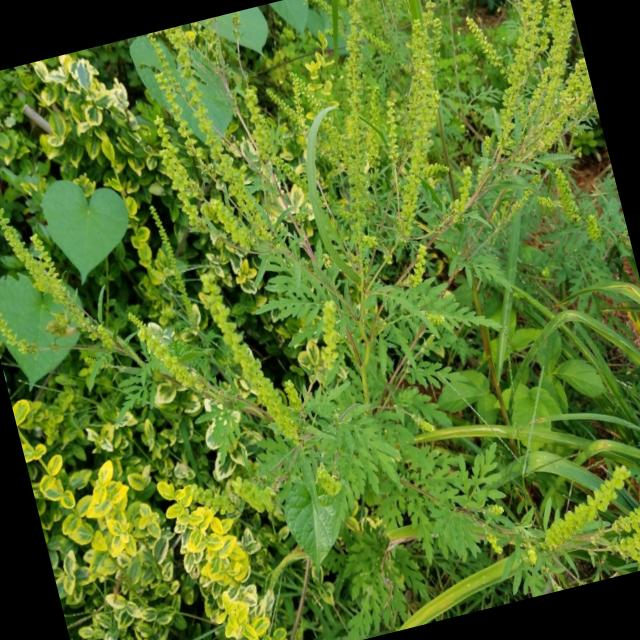ambrosia: (178, 253, 338, 486), (343, 6, 484, 262), (236, 45, 387, 272), (0, 142, 120, 394), (482, 0, 619, 217), (129, 51, 258, 250), (497, 450, 640, 599)
